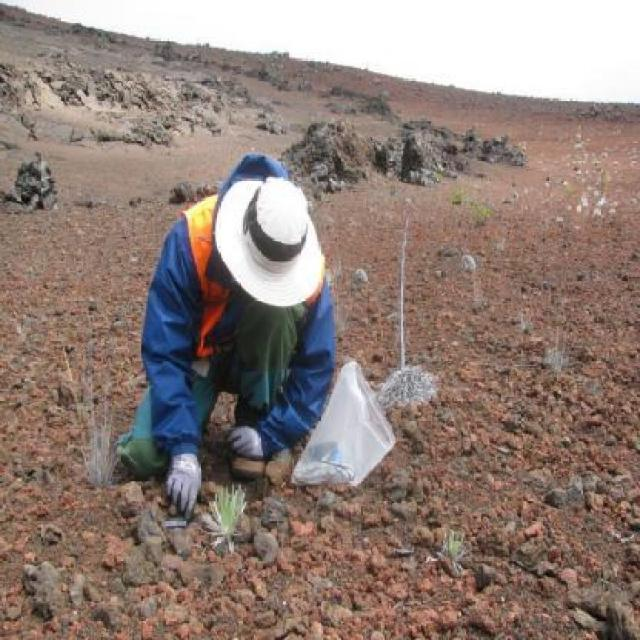plastic bag: (288, 360, 397, 488)
